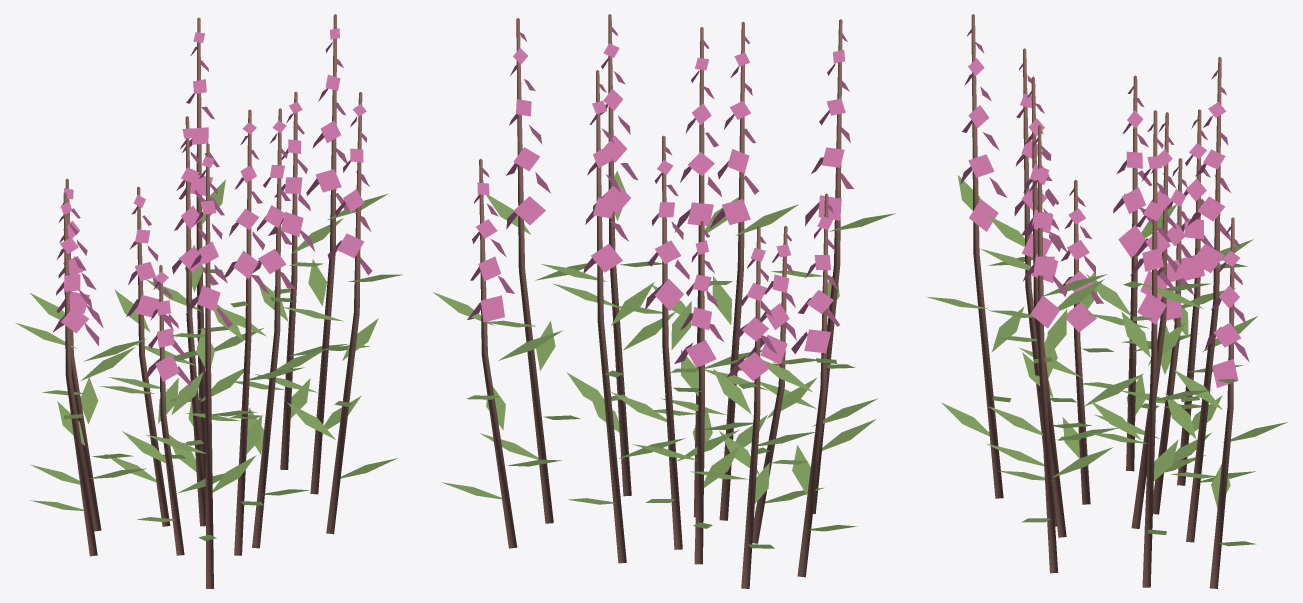
The model's file is fireweed.glb.
3 views of the same model, side by side, from view 1: azimuth 30°, elevation 25°; view 2: azimuth 150°, elevation 25°; view 3: azimuth 270°, elevation 25° (orthographic). The views are drawn at different scales.
Visible parts, largest first — view 1: understory_fireweed_LOD0; view 2: understory_fireweed_LOD0; view 3: understory_fireweed_LOD0.
Part boxes in pixels (x1=…): understory_fireweed_LOD0: x1=15, y1=14, x2=402, y2=588; understory_fireweed_LOD0: x1=433, y1=14, x2=895, y2=588; understory_fireweed_LOD0: x1=927, y1=14, x2=1287, y2=588.
Bounding box in the file's own units: 1.08 × 1.36 × 0.916.
